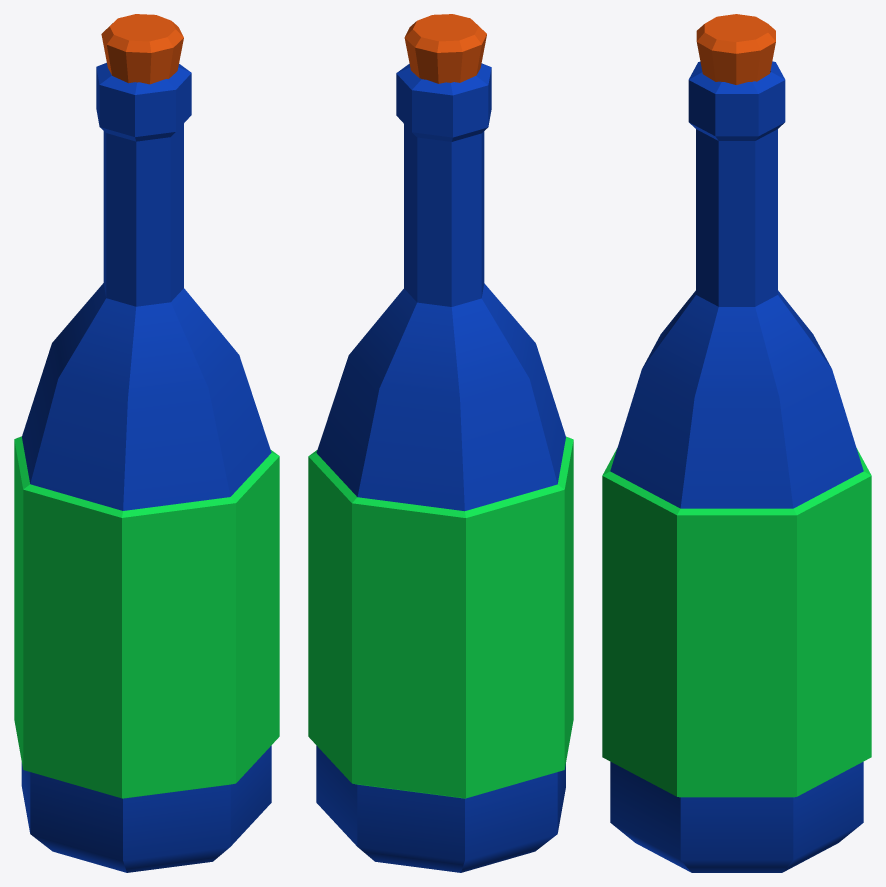
Rendered from MESH_Hydromel.fbx.
The picture shows the model from 3 angles, left to right: view 1: azimuth 30°, elevation 25°; view 2: azimuth 150°, elevation 25°; view 3: azimuth 270°, elevation 25°; orthographic projection.
Visible parts, largest first — view 1: MESH_Hydromel; view 2: MESH_Hydromel; view 3: MESH_Hydromel.
Boxes of the visible parts, x1,y1,x2,y2 form: MESH_Hydromel: (14,14,279,872); MESH_Hydromel: (308,14,573,872); MESH_Hydromel: (602,14,871,872).
Bounding box in the file's own units: 0.0663 × 0.2242 × 0.068.
